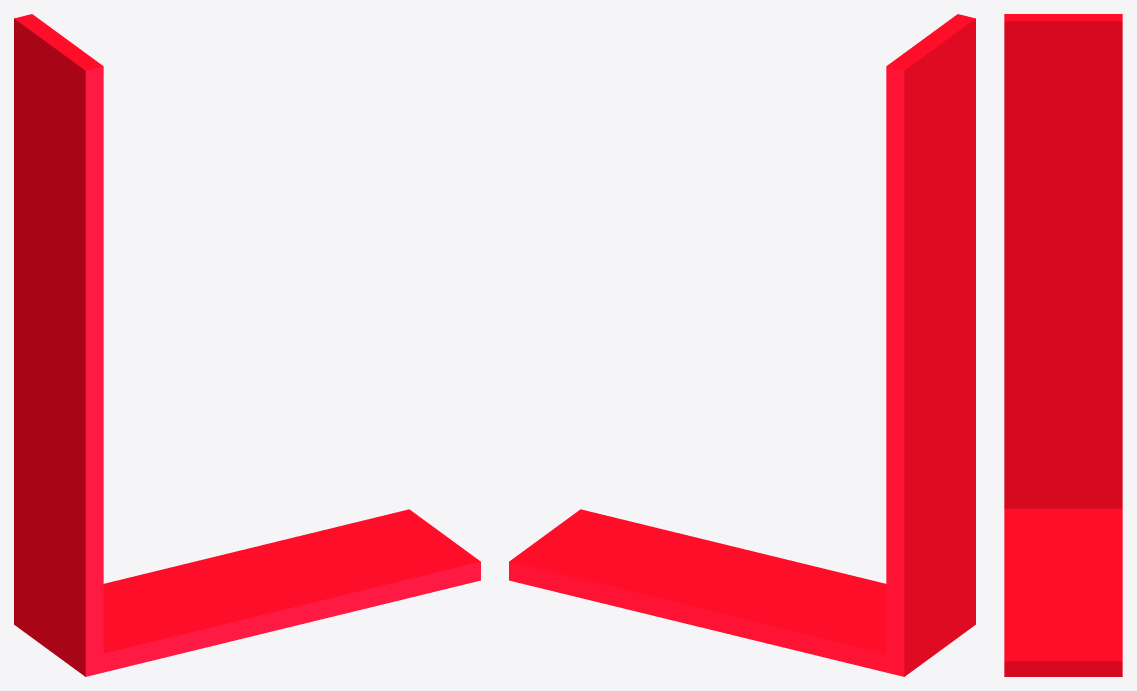
3 renders of one model, left to right at view 1: azimuth 30°, elevation 25°; view 2: azimuth 150°, elevation 25°; view 3: azimuth 270°, elevation 25°, orthographic. The views are drawn at different scales.
Parts seen in each view (by area): view 1: l_AlphaProta_Red; view 2: l_AlphaProta_Red; view 3: l_AlphaProta_Red.
Part boxes in pixels (x1,y1,x2,y2): l_AlphaProta_Red: (14, 14, 480, 676); l_AlphaProta_Red: (509, 14, 975, 676); l_AlphaProta_Red: (1004, 14, 1122, 676).
Size of what is drawn, in the model's own units: 0.1436 by 0.2105 by 0.045.
Materials: 2 (2 with a texture image).
